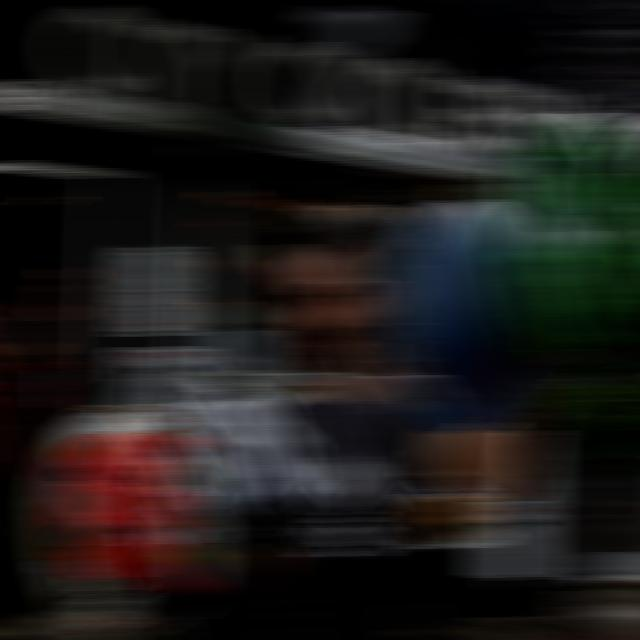Without Helmet: (276, 210, 388, 385)
